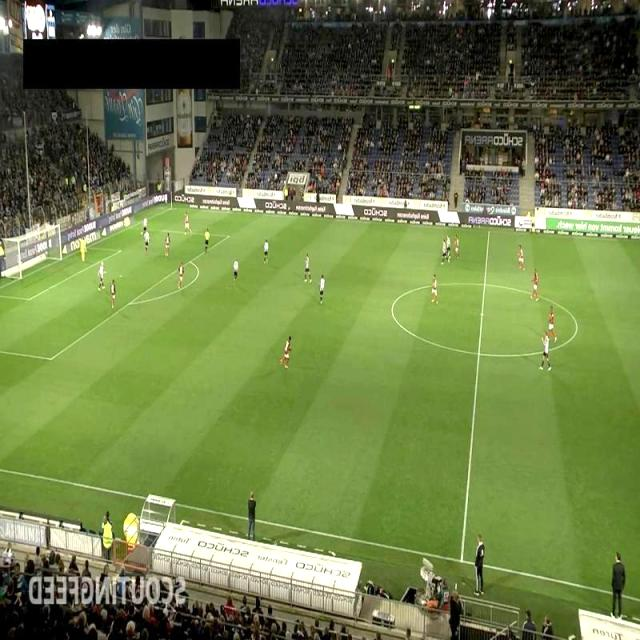bigarea_bottom_inner: (45, 354, 56, 364)
bigarea_top_inner: (223, 230, 234, 240)
bigarea_top_outter: (124, 222, 136, 234)
bottom_arc_area_intersection: (125, 298, 136, 309)
corner: (166, 203, 177, 214)
halfcircle_bottom: (474, 347, 484, 358)
halfcircle_top: (480, 278, 490, 289)
midline_bottom_intersection: (455, 553, 470, 568)
midline_top_intersection: (484, 224, 494, 235)
smallarea_bottom_inner: (23, 293, 34, 304)
smallarea_top_inner: (115, 244, 126, 256)
smallarea_top_outter: (81, 242, 92, 252)
top_arc_area_intersection: (184, 256, 196, 268)
